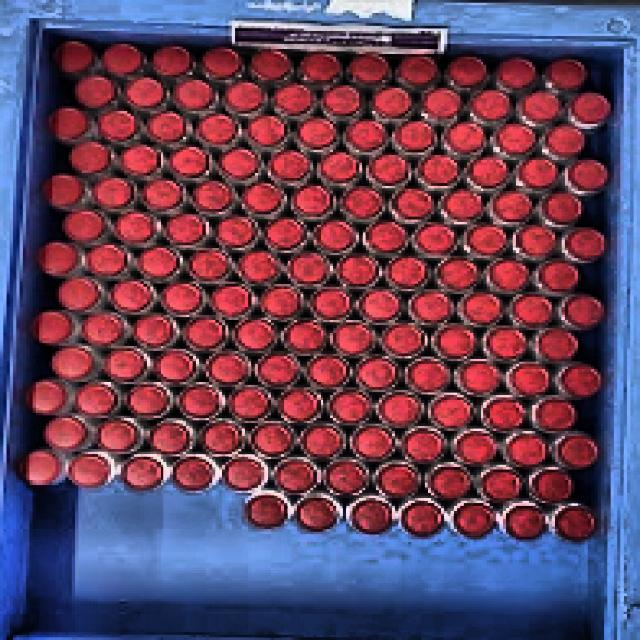vial: (504, 507, 550, 541), (428, 468, 475, 498), (246, 495, 290, 527), (510, 295, 555, 326), (407, 359, 449, 392), (560, 366, 604, 397), (69, 142, 114, 172), (249, 425, 294, 455), (74, 76, 116, 108), (273, 460, 315, 492), (44, 418, 90, 447), (42, 174, 85, 205), (142, 178, 185, 209), (148, 422, 192, 452), (454, 503, 494, 536), (217, 148, 259, 179), (173, 459, 215, 490), (404, 502, 442, 536), (558, 508, 596, 542), (208, 352, 248, 384), (506, 434, 546, 466), (19, 452, 59, 484), (174, 79, 215, 110), (63, 211, 104, 242), (560, 436, 601, 467), (69, 456, 110, 487), (82, 315, 124, 345), (434, 327, 476, 357), (539, 330, 581, 360), (258, 355, 300, 385), (326, 464, 368, 494), (333, 325, 372, 357), (531, 472, 574, 501), (169, 146, 209, 177), (354, 428, 394, 459), (385, 256, 426, 286), (184, 319, 226, 348), (431, 397, 473, 426), (406, 430, 444, 462), (370, 154, 409, 185), (298, 499, 337, 530), (261, 288, 304, 316), (49, 350, 92, 378), (246, 114, 286, 144), (496, 124, 536, 154), (270, 150, 310, 180), (344, 188, 384, 218), (461, 293, 501, 323), (112, 280, 152, 310), (57, 280, 97, 310), (383, 325, 423, 355), (487, 328, 527, 358), (457, 432, 497, 462), (124, 457, 164, 487), (351, 503, 391, 533), (302, 51, 339, 83), (359, 358, 397, 389), (536, 402, 578, 430), (280, 392, 322, 420), (472, 90, 511, 120), (547, 126, 586, 156), (116, 212, 155, 242), (79, 385, 118, 415), (93, 178, 133, 207), (490, 260, 530, 289), (411, 292, 451, 321), (104, 351, 144, 380), (104, 44, 141, 75), (128, 78, 165, 109), (569, 229, 606, 260), (166, 213, 203, 244), (225, 81, 263, 111), (348, 120, 386, 150), (572, 160, 610, 190), (445, 190, 483, 220), (469, 225, 507, 255), (88, 246, 126, 276), (236, 321, 274, 351), (197, 115, 236, 144), (330, 393, 369, 422), (302, 427, 341, 456), (447, 124, 487, 152), (544, 195, 584, 223), (438, 259, 478, 287), (24, 384, 64, 412), (491, 192, 528, 222), (165, 284, 202, 314), (98, 420, 135, 450), (424, 89, 462, 118), (395, 122, 433, 151), (294, 186, 332, 215), (394, 190, 432, 219), (566, 297, 604, 326), (312, 289, 350, 318), (51, 44, 90, 72), (297, 119, 336, 147), (217, 217, 256, 245), (156, 353, 195, 381), (380, 396, 419, 424), (230, 390, 269, 418), (181, 389, 220, 417), (288, 322, 322, 354), (122, 145, 158, 175), (517, 226, 553, 256), (360, 292, 400, 319), (462, 362, 498, 392), (511, 364, 547, 394), (496, 57, 533, 86), (213, 286, 250, 315), (350, 54, 388, 82), (548, 59, 586, 87), (522, 92, 560, 120), (244, 184, 282, 212), (266, 220, 304, 248), (190, 251, 228, 279), (289, 256, 327, 284), (340, 256, 378, 284), (30, 313, 68, 341), (309, 358, 347, 386), (226, 461, 264, 489), (324, 87, 363, 114), (238, 255, 277, 282), (153, 46, 188, 76), (149, 112, 184, 142), (572, 94, 608, 123), (193, 182, 230, 210), (370, 224, 407, 252), (317, 222, 354, 250), (541, 262, 578, 290), (133, 317, 170, 345), (486, 399, 523, 427), (374, 88, 412, 115), (99, 112, 137, 139), (140, 248, 178, 275), (377, 469, 416, 495), (448, 57, 484, 85), (471, 158, 507, 186), (48, 109, 84, 137), (127, 387, 167, 412), (201, 47, 238, 74), (202, 424, 239, 451), (275, 84, 310, 112), (321, 154, 356, 182), (417, 225, 452, 253), (483, 471, 518, 499), (252, 51, 288, 78), (401, 56, 438, 82), (422, 156, 456, 184), (520, 160, 556, 186), (38, 245, 72, 272)
